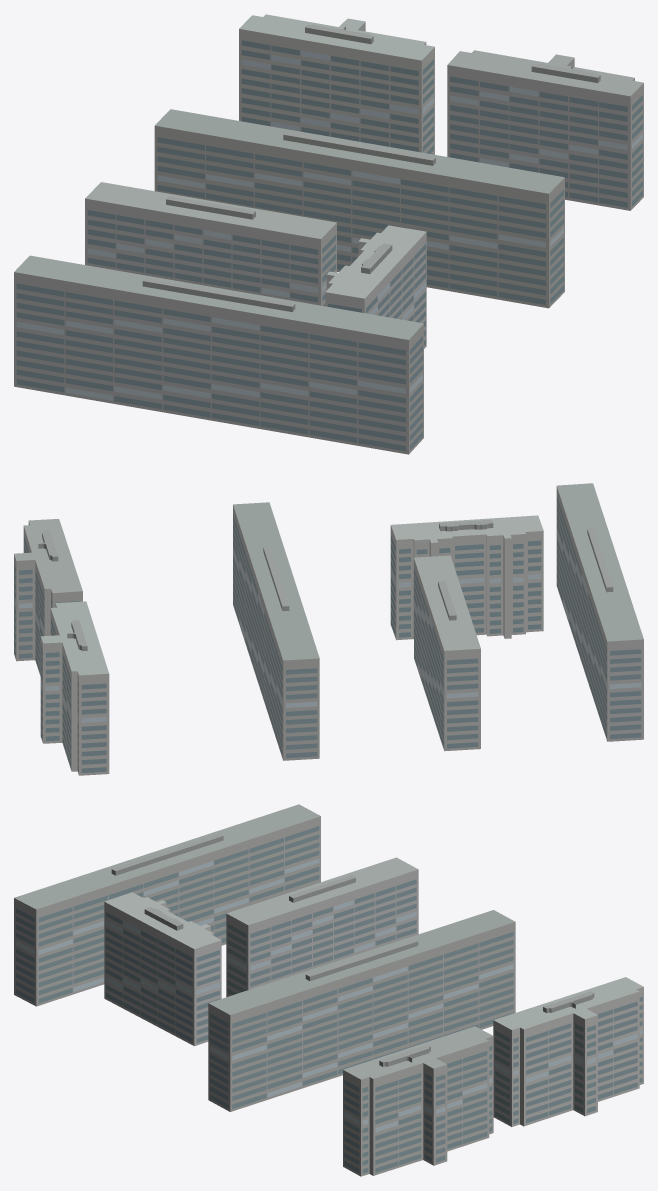
Rendered from apt-a15089411.glb.
3 views of the same model, one above another, from view 1: azimuth 30°, elevation 25°; view 2: azimuth 150°, elevation 25°; view 3: azimuth 270°, elevation 25° (orthographic). The views are drawn at different scales.
Visible parts, largest first — view 1: apt-a15089411; view 2: apt-a15089411; view 3: apt-a15089411.
Boxes of the visible parts, x1,y1,x2,y2 form: apt-a15089411: (14, 14, 643, 454); apt-a15089411: (14, 483, 643, 775); apt-a15089411: (14, 804, 643, 1176).
Size of the model in its own units: 209 by 36 by 202.
